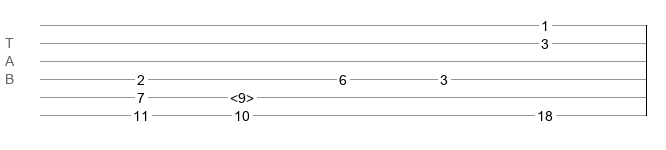1: (541, 18, 549, 28)
10: (234, 108, 250, 118)
11: (133, 108, 149, 118)
18: (537, 108, 553, 118)
2: (137, 72, 145, 82)
3: (440, 72, 448, 82), (541, 36, 549, 46)
6: (339, 72, 347, 82)
7: (137, 90, 145, 100)
harmonic: (230, 90, 254, 100)
